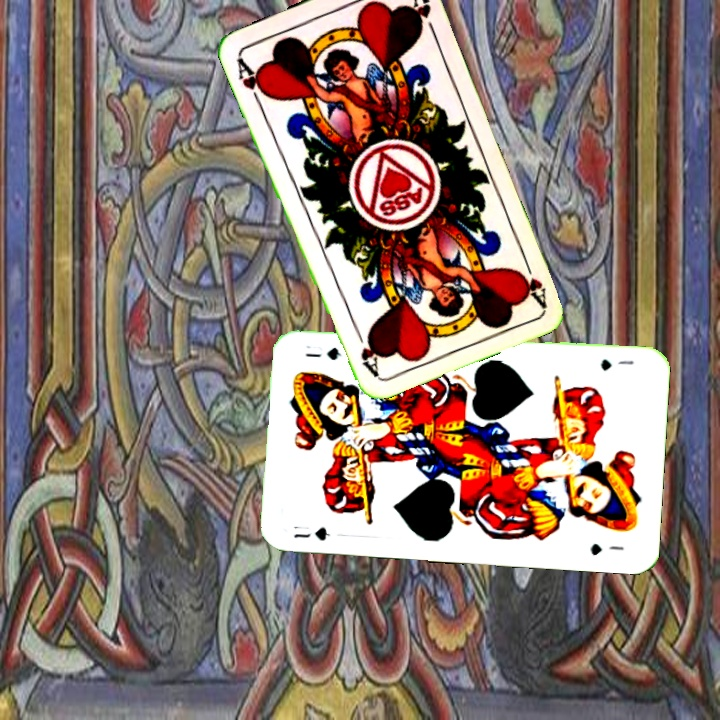GU: (289, 521, 332, 543), (597, 355, 636, 374)
HA: (232, 53, 272, 109), (513, 251, 549, 308)
